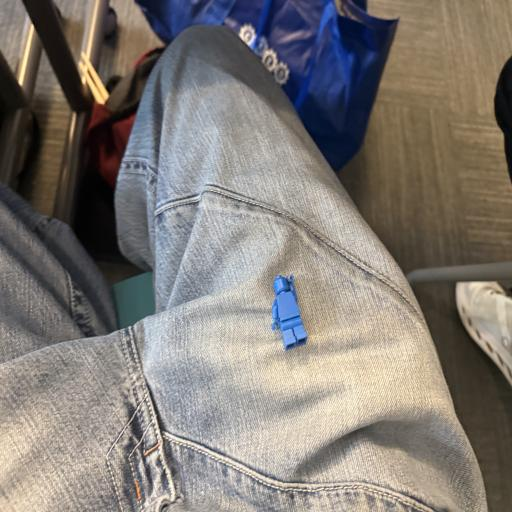Minifig: (271, 275, 308, 350)
